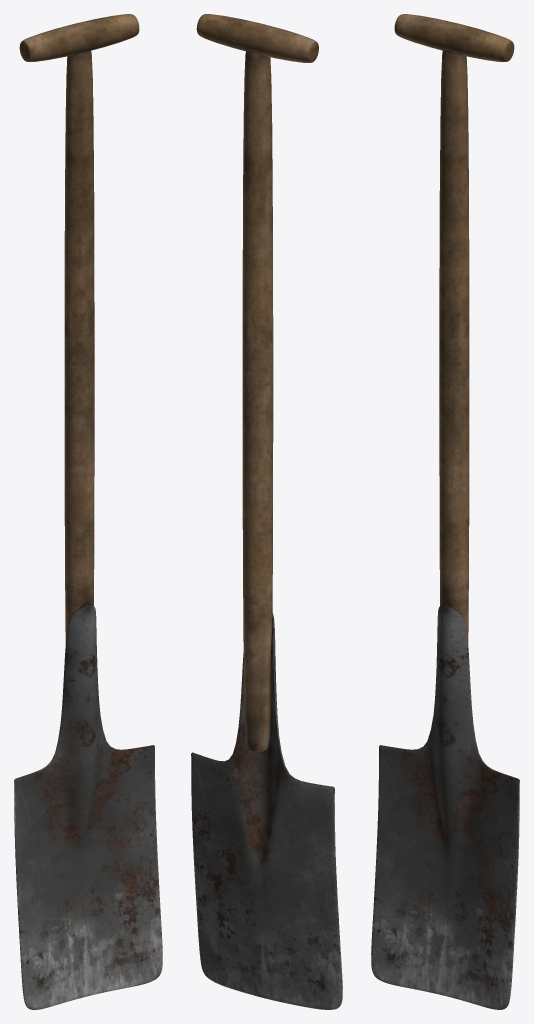
File: rusted_spade_01.glb
3 renders of one model, left to right at view 1: azimuth 30°, elevation 25°; view 2: azimuth 150°, elevation 25°; view 3: azimuth 330°, elevation 25°, orthographic. The views are drawn at different scales.
Parts seen in each view (by area): view 1: rusted_spade_01; view 2: rusted_spade_01; view 3: rusted_spade_01.
Boxes of the visible parts, box(x1,y1,x2,y2) form: rusted_spade_01: box(14, 14, 162, 1009); rusted_spade_01: box(191, 14, 342, 1009); rusted_spade_01: box(371, 14, 519, 1009).
Bounding box in the file's own units: 0.1681 × 1.1 × 0.0456.
Materials: 1 (1 with a texture image).
